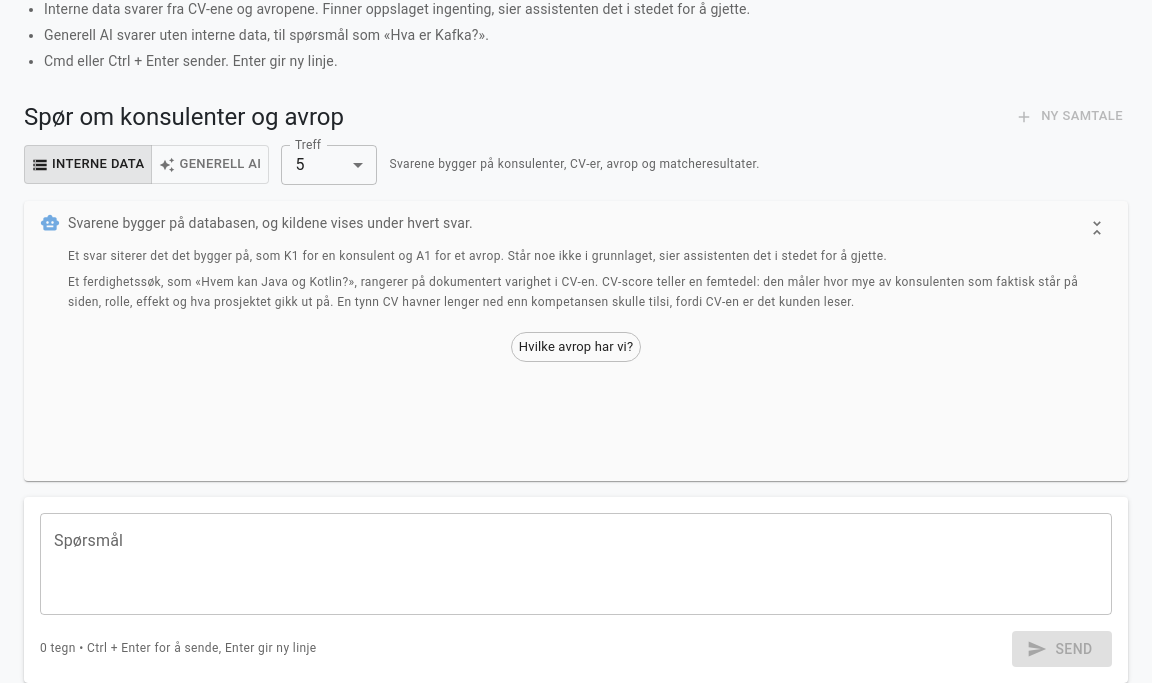
Test: ChatAssistantPage › sends the general scope once the switch is flipped
(page scrolled)
Click the button "Generell AI": x=210, y=165 [151,145,269,184]
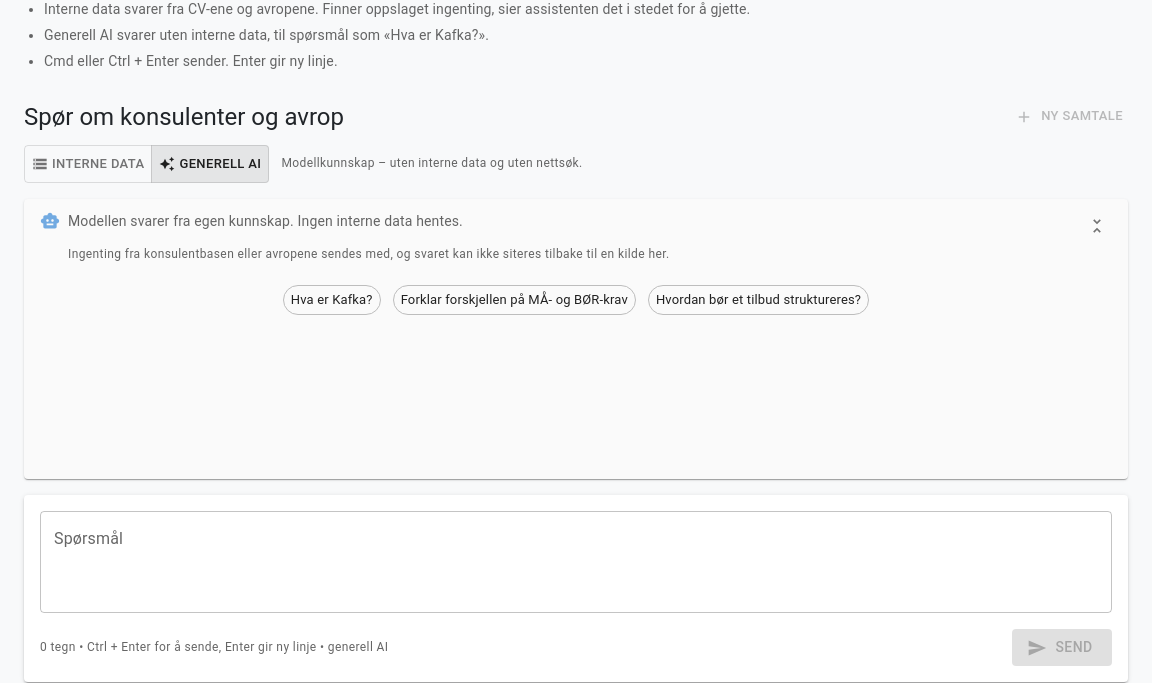
In the text box labelled "Spørsmål": x=576, y=562 [54,528,1098,597], type "Hva er Kafka?"
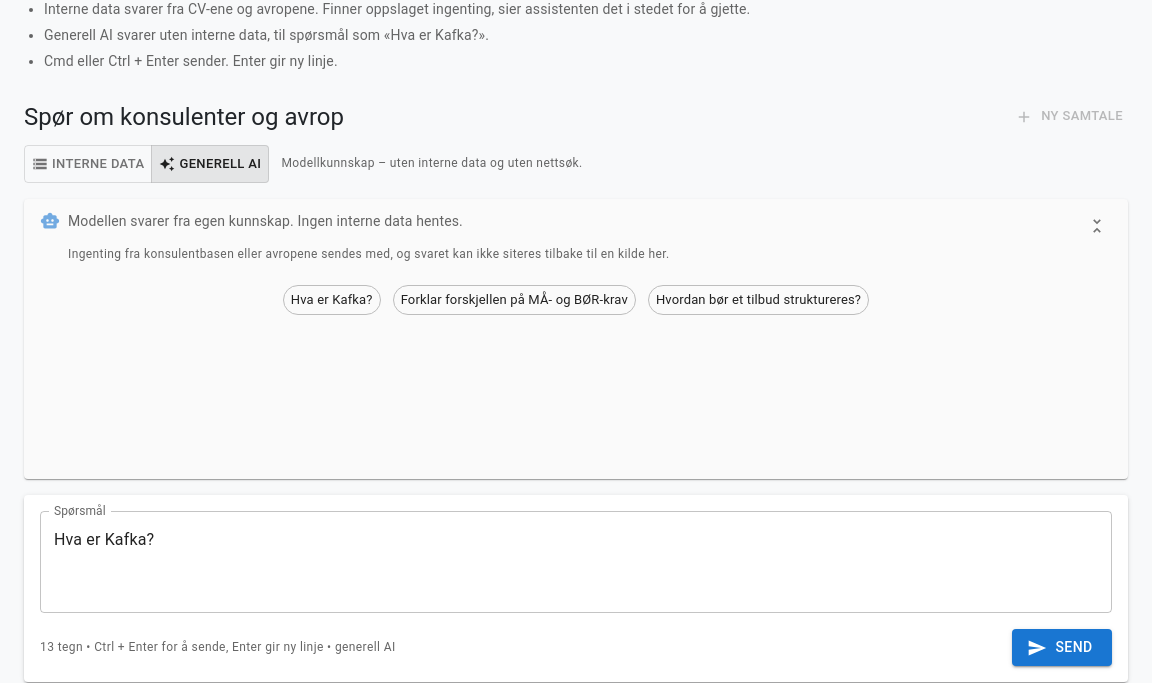
Click the button "Send": x=1062, y=648 [1012,630,1112,666]
(page scrolled)
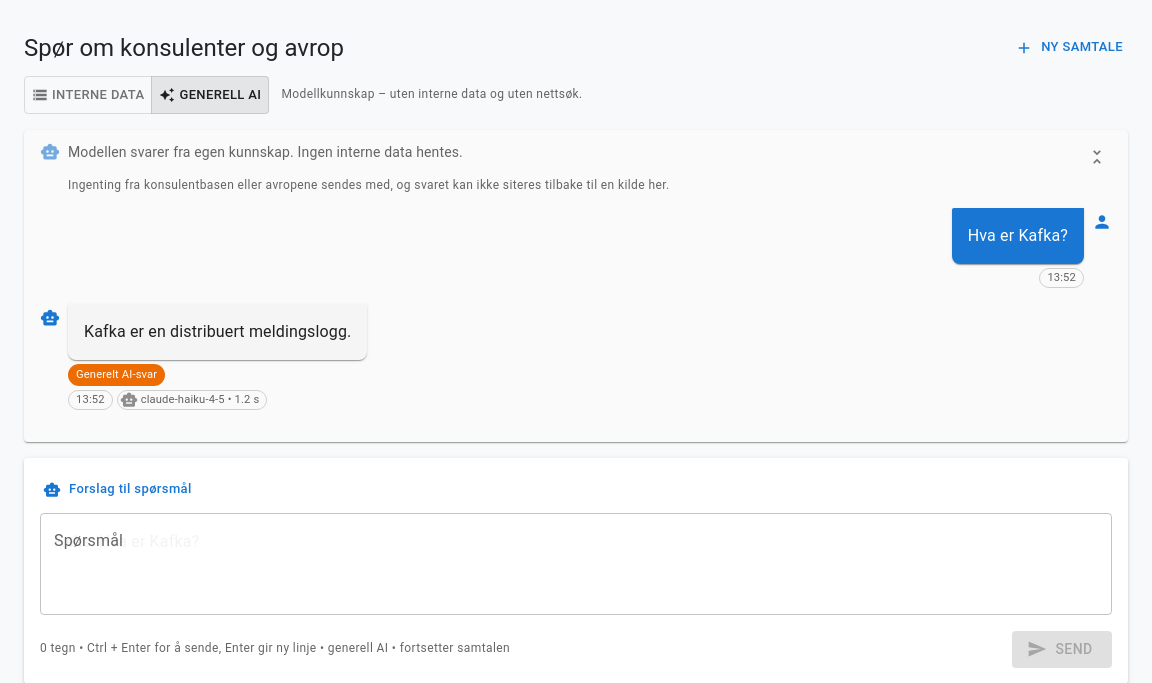
Expected: the text "Generelt AI-svar" is shown, [76,368,157,381]
